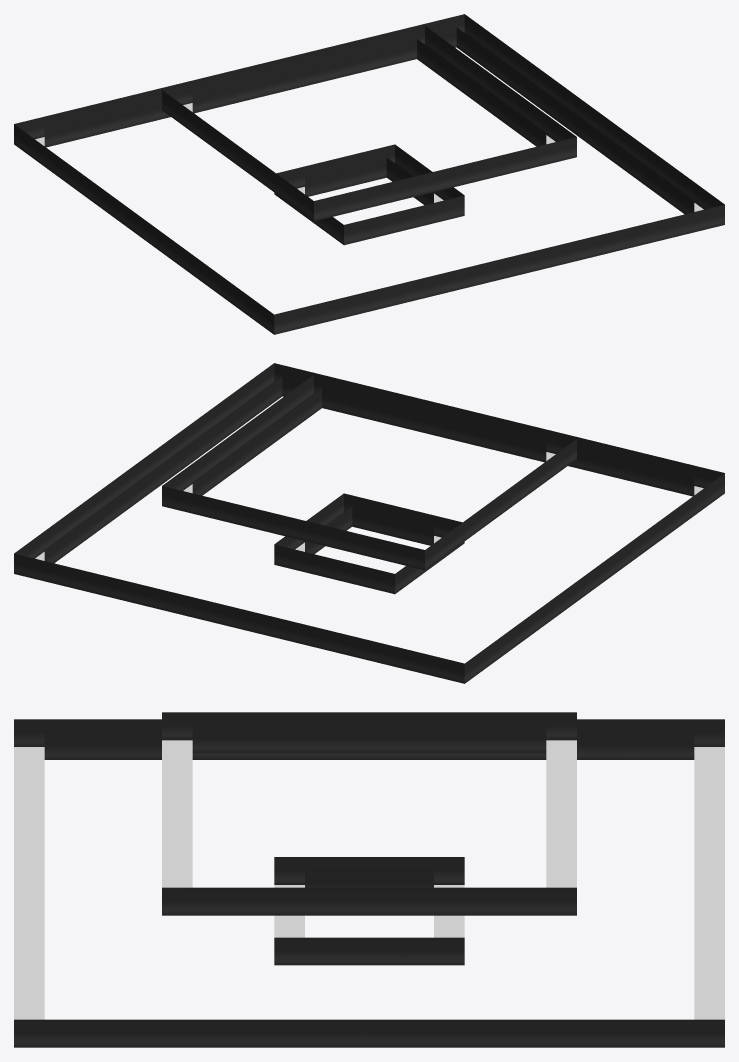
The model's file is Lamp_011.fbx.
3 renders of one model, top to bottom at view 1: azimuth 30°, elevation 25°; view 2: azimuth 150°, elevation 25°; view 3: azimuth 270°, elevation 25°, orthographic. The views are drawn at different scales.
Parts seen in each view (by area): view 1: Lamp_011; view 2: Lamp_011; view 3: Lamp_011.
Part boxes in pixels (x1,y1,x2,y2): Lamp_011: (14,14,724,334); Lamp_011: (14,363,724,683); Lamp_011: (14,712,724,1047).
Bounding box in the file's own units: 232 × 45 × 232.
